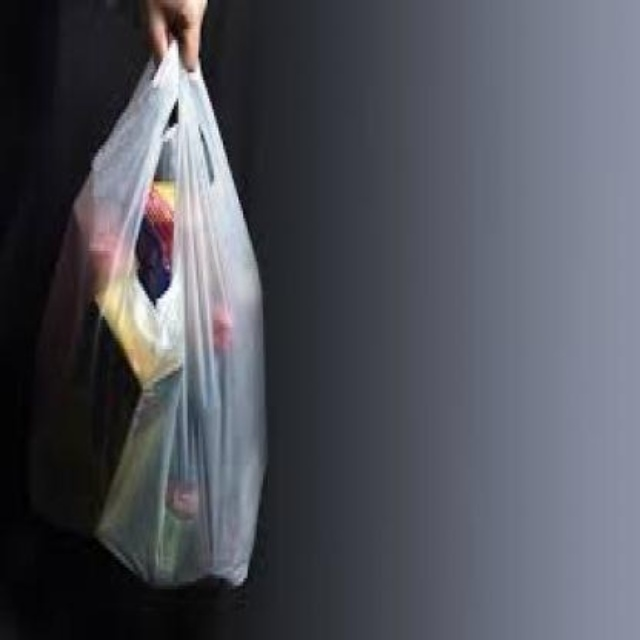trash: (31, 43, 263, 585)
